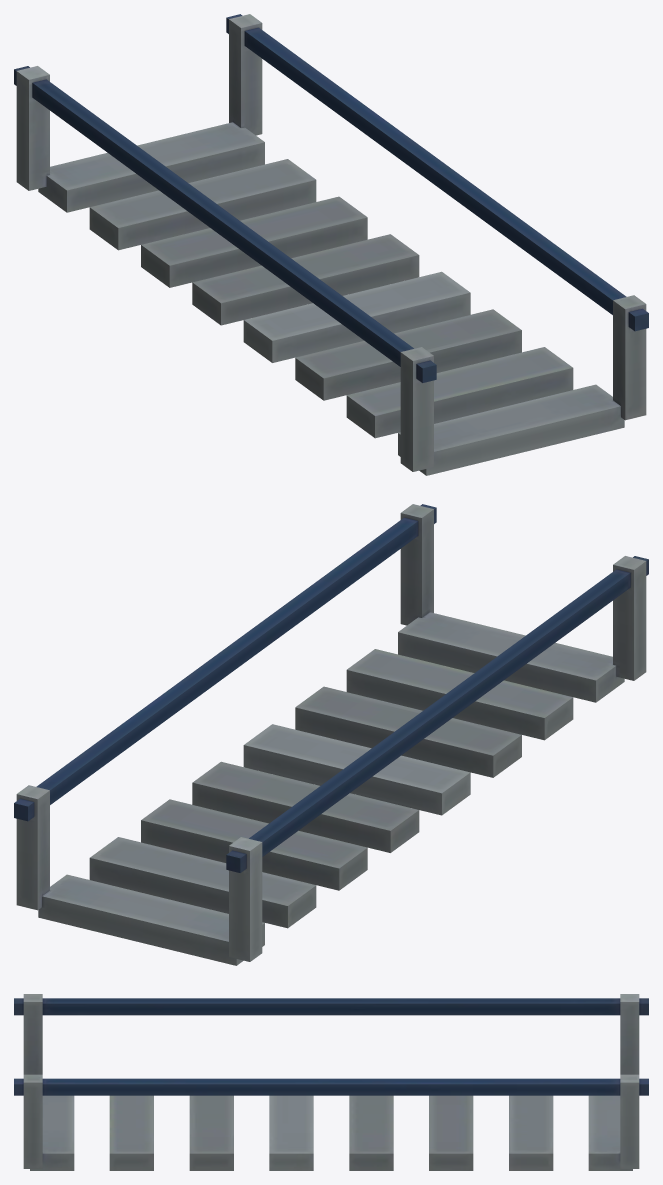
Rendered from raft-walk-age20.glb.
3 views of the same model, one above another, from view 1: azimuth 30°, elevation 25°; view 2: azimuth 150°, elevation 25°; view 3: azimuth 270°, elevation 25° (orthographic). The views are drawn at different scales.
Visible parts, largest first — view 1: raft-walk-age20; view 2: raft-walk-age20; view 3: raft-walk-age20.
Part boxes in pixels (box(x1,y1,x2,y2)): raft-walk-age20: box(14, 14, 648, 475); raft-walk-age20: box(14, 504, 648, 965); raft-walk-age20: box(14, 994, 648, 1170).
Bounding box in the file's own units: 0.33 × 0.165 × 1.
1 material, 1 textured.
